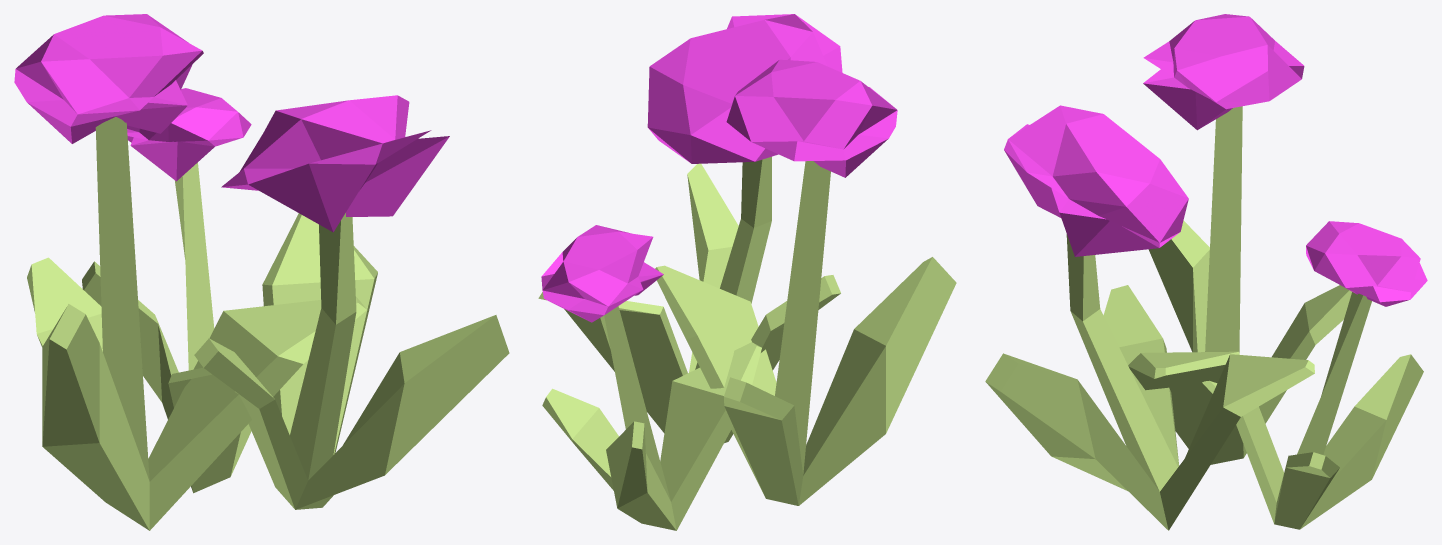
The model's file is lowPolyTiles_flowers01.fbx.
3 views of the same model, side by side, from view 1: azimuth 30°, elevation 25°; view 2: azimuth 150°, elevation 25°; view 3: azimuth 270°, elevation 25° (orthographic). The views are drawn at different scales.
Parts seen in each view (by area): view 1: lowPolyTiles_flowers01; view 2: lowPolyTiles_flowers01; view 3: lowPolyTiles_flowers01.
Part boxes in pixels (x1,y1,x2,y2): lowPolyTiles_flowers01: (14, 14, 509, 530); lowPolyTiles_flowers01: (538, 14, 956, 530); lowPolyTiles_flowers01: (985, 14, 1427, 530).
Bounding box in the file's own units: 37.25 × 46.85 × 42.75.
